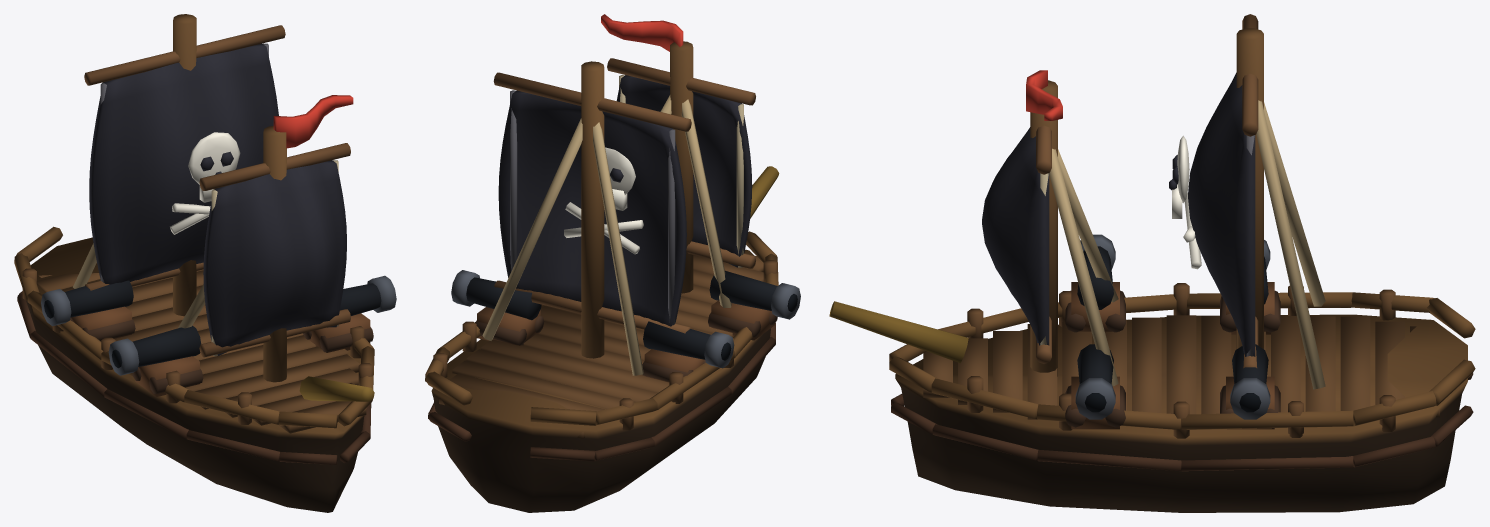
The model's file is barco-pirata.glb.
The picture shows the model from 3 angles, left to right: view 1: azimuth 30°, elevation 25°; view 2: azimuth 150°, elevation 25°; view 3: azimuth 270°, elevation 25°; orthographic projection. The views are drawn at different scales.
Visible parts, largest first — view 1: Hull, Sail_Main, Sail_Fore, Cannons, Flag; view 2: Hull, Sail_Main, Cannons, Sail_Fore, Flag; view 3: Hull, Sail_Main, Cannons, Sail_Fore, Flag.
Boxes of the visible parts, x1,y1,x2,y2 form: Hull: [14, 14, 374, 512]; Sail_Main: [84, 25, 285, 290]; Sail_Fore: [199, 143, 350, 357]; Cannons: [41, 275, 396, 396]; Flag: [273, 95, 353, 148]; Hull: [425, 41, 779, 512]; Sail_Main: [493, 72, 691, 333]; Cannons: [451, 270, 800, 382]; Sail_Fore: [607, 58, 755, 268]; Flag: [601, 14, 683, 51]; Hull: [829, 28, 1475, 512]; Sail_Main: [1169, 14, 1258, 368]; Cannons: [1065, 234, 1280, 429]; Sail_Fore: [982, 125, 1051, 363]; Flag: [1026, 70, 1062, 120].
Size of the model in its own units: 0.5548 by 0.7534 by 1.
